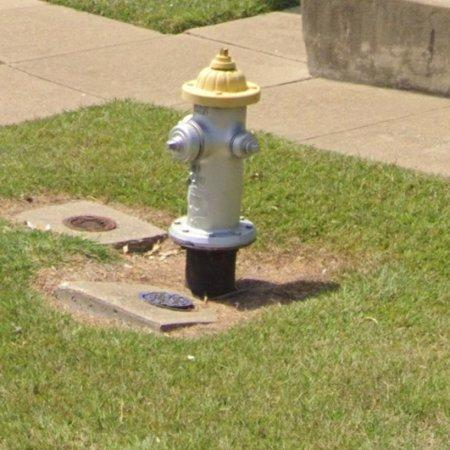a fire hydrant: (167, 49, 261, 297)
